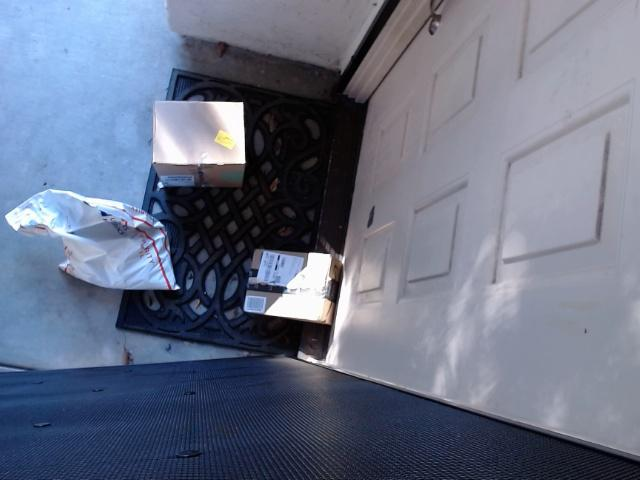box: (139, 85, 270, 195), (231, 241, 349, 332)
plastic_bag: (1, 191, 198, 305)
